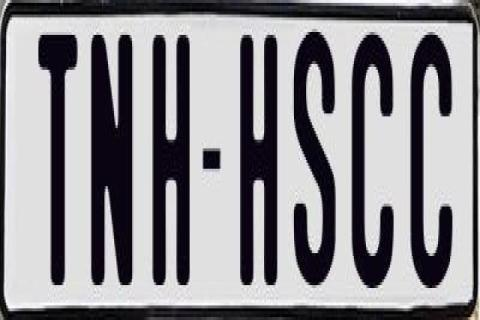C: (410, 29, 460, 299), (350, 32, 392, 306)
H: (152, 32, 196, 300), (237, 35, 275, 294)
N: (90, 35, 130, 299)
S: (290, 32, 338, 302)
T: (38, 35, 78, 303)
